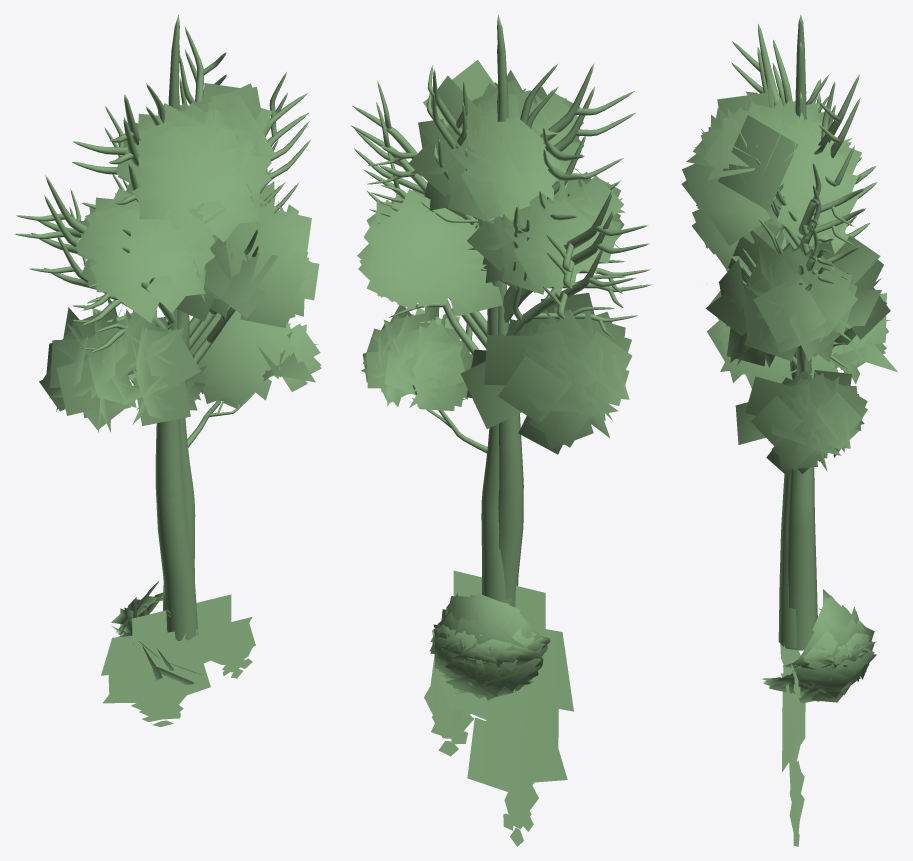
The model's file is vegetation.glb.
The picture shows the model from 3 angles, left to right: view 1: azimuth 30°, elevation 25°; view 2: azimuth 150°, elevation 25°; view 3: azimuth 270°, elevation 25°; orthographic projection.
Visible parts, largest first — view 1: environment.forest-edge.vegetation:visual-base, environment.crypt.vegetation:condition-overgrown, environment.crypt.vegetation:visual-base, environment.dungeon.vegetation:condition-weathered, environment.dungeon.vegetation:condition-burned, environment.ruins.vegetation:condition-overgrown; view 2: environment.forest-edge.vegetation:visual-base, environment.ruins.vegetation:visual-base, environment.dungeon.vegetation:condition-weathered, environment.crypt.vegetation:visual-base, environment.dungeon.vegetation:condition-burned, environment.crypt.vegetation:condition-weathered, environment.palace.vegetation:visual-base, environment.ruins.vegetation:condition-overgrown, environment.dungeon.vegetation:condition-damaged; view 3: environment.forest-edge.vegetation:visual-base, environment.crypt.vegetation:visual-base, environment.dungeon.vegetation:condition-weathered, environment.dungeon.vegetation:condition-damaged, environment.ruins.vegetation:visual-base, environment.palace.vegetation:visual-base, environment.dungeon.vegetation:condition-burned, environment.crypt.vegetation:condition-weathered, environment.ruins.vegetation:condition-overgrown, environment.crypt.vegetation:condition-overgrown.
Part boxes in pixels (left/top/right/bottom): environment.forest-edge.vegetation:visual-base: left=39, top=83, right=321, bottom=610; environment.crypt.vegetation:condition-overgrown: left=101, top=594, right=255, bottom=726; environment.crypt.vegetation:visual-base: left=16, top=15, right=309, bottom=580; environment.dungeon.vegetation:condition-weathered: left=15, top=45, right=310, bottom=639; environment.dungeon.vegetation:condition-burned: left=29, top=93, right=299, bottom=640; environment.ruins.vegetation:condition-overgrown: left=111, top=596, right=162, bottom=658; environment.forest-edge.vegetation:visual-base: left=357, top=59, right=631, bottom=605; environment.ruins.vegetation:visual-base: left=424, top=570, right=573, bottom=846; environment.dungeon.vegetation:condition-weathered: left=351, top=45, right=651, bottom=607; environment.crypt.vegetation:visual-base: left=352, top=15, right=650, bottom=543; environment.dungeon.vegetation:condition-burned: left=364, top=93, right=637, bottom=355; environment.crypt.vegetation:condition-weathered: left=437, top=595, right=547, bottom=696; environment.palace.vegetation:visual-base: left=440, top=593, right=541, bottom=700; environment.ruins.vegetation:condition-overgrown: left=430, top=609, right=550, bottom=670; environment.dungeon.vegetation:condition-damaged: left=430, top=608, right=488, bottom=685; environment.forest-edge.vegetation:visual-base: left=681, top=80, right=897, bottom=650; environment.crypt.vegetation:visual-base: left=732, top=14, right=875, bottom=593; environment.dungeon.vegetation:condition-weathered: left=731, top=42, right=876, bottom=648; environment.dungeon.vegetation:condition-damaged: left=761, top=623, right=876, bottom=694; environment.ruins.vegetation:visual-base: left=782, top=648, right=805, bottom=846; environment.palace.vegetation:visual-base: left=763, top=589, right=859, bottom=703; environment.dungeon.vegetation:condition-burned: left=758, top=92, right=869, bottom=649; environment.crypt.vegetation:condition-weathered: left=763, top=607, right=863, bottom=699; environment.ruins.vegetation:condition-overgrown: left=783, top=608, right=876, bottom=670; environment.crypt.vegetation:condition-overgrown: left=780, top=644, right=804, bottom=729.
Size of what is drawn, in the model's own units: 3.12 by 8.31 by 1.94.
